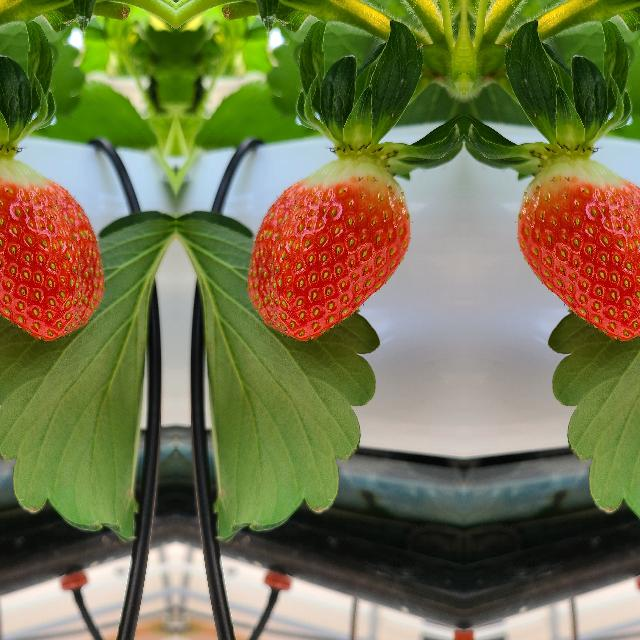Health_100: (245, 158, 413, 342), (513, 158, 640, 342), (0, 158, 105, 342)
